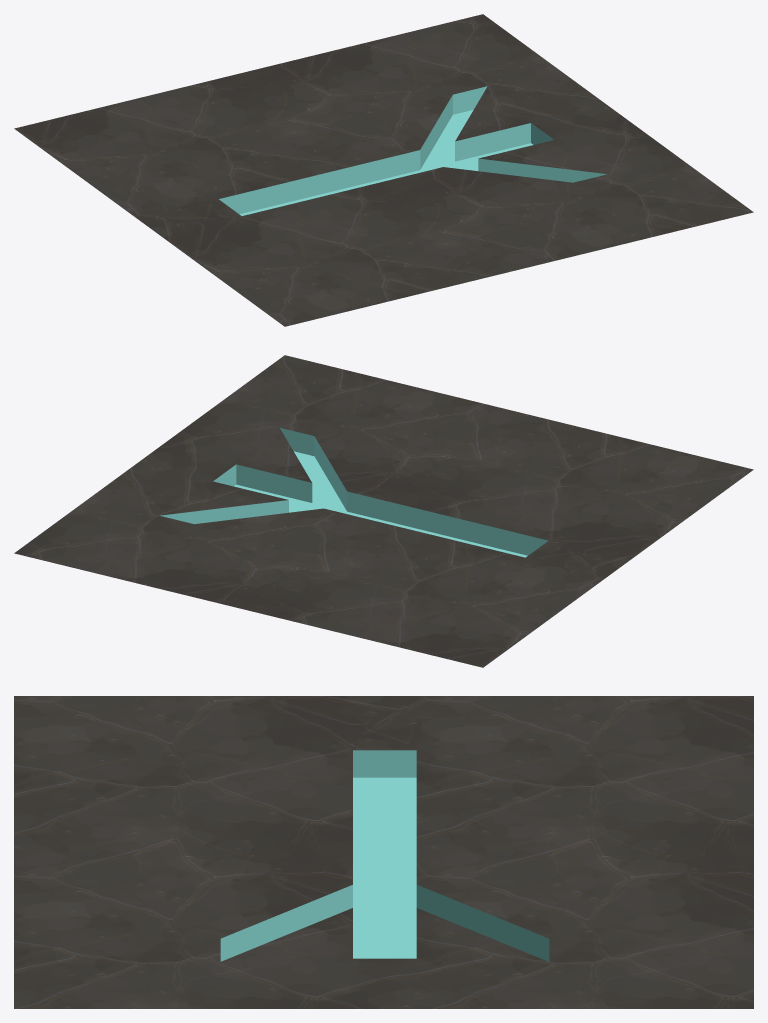
File: Pressure plate 3.fbx
The picture shows the model from 3 angles, top to bottom: view 1: azimuth 30°, elevation 25°; view 2: azimuth 150°, elevation 25°; view 3: azimuth 270°, elevation 25°; orthographic projection. The views are drawn at different scales.
Parts seen in each view (by area): view 1: Pressure_plate_3_3_Nikita1; view 2: Pressure_plate_3_3_Nikita1; view 3: Pressure_plate_3_3_Nikita1.
Part boxes in pixels (bbox=[...]): Pressure_plate_3_3_Nikita1: bbox=[14, 14, 753, 326]; Pressure_plate_3_3_Nikita1: bbox=[14, 355, 753, 667]; Pressure_plate_3_3_Nikita1: bbox=[14, 696, 753, 1008].
Size of the model in its own units: 1.74 by 0.0715 by 1.74.
